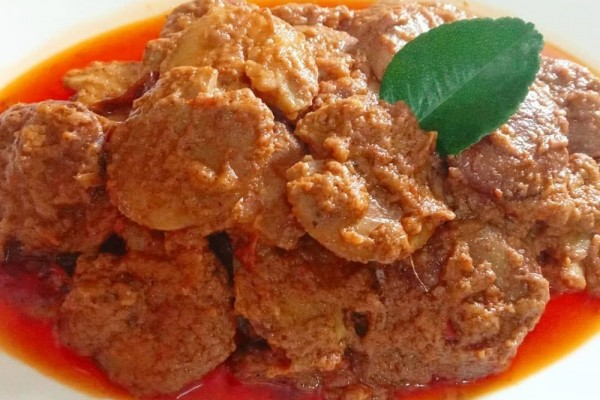rendang: (2, 4, 600, 396)
